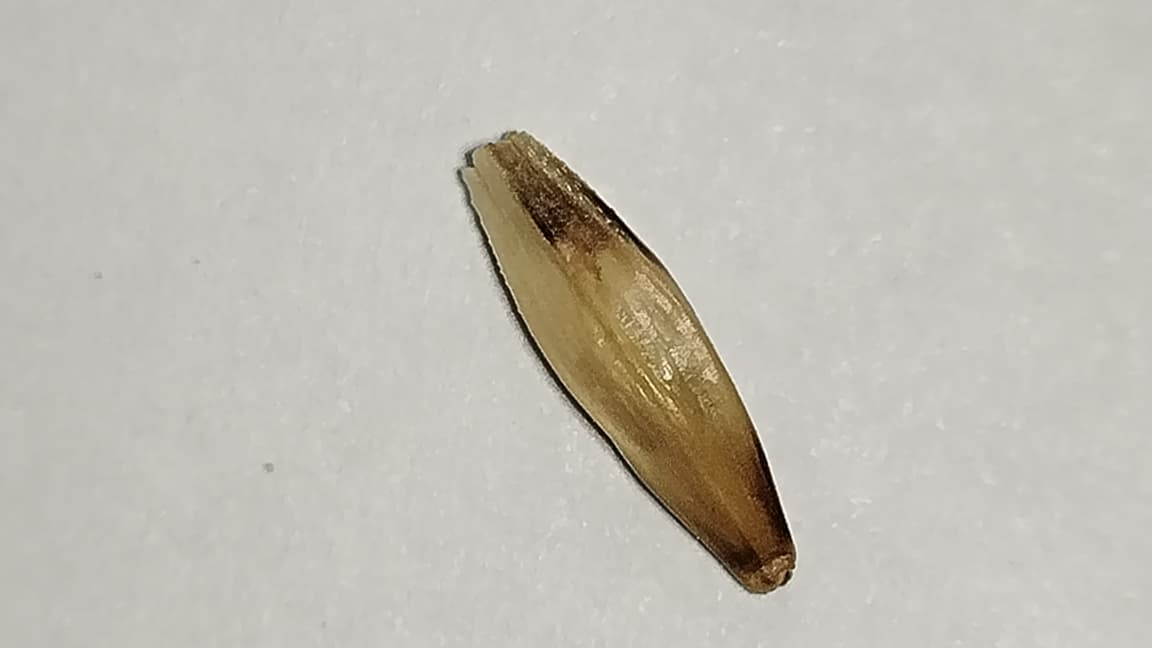damage: (462, 132, 794, 592)
staindamage: (494, 130, 670, 280), (690, 421, 794, 593)
